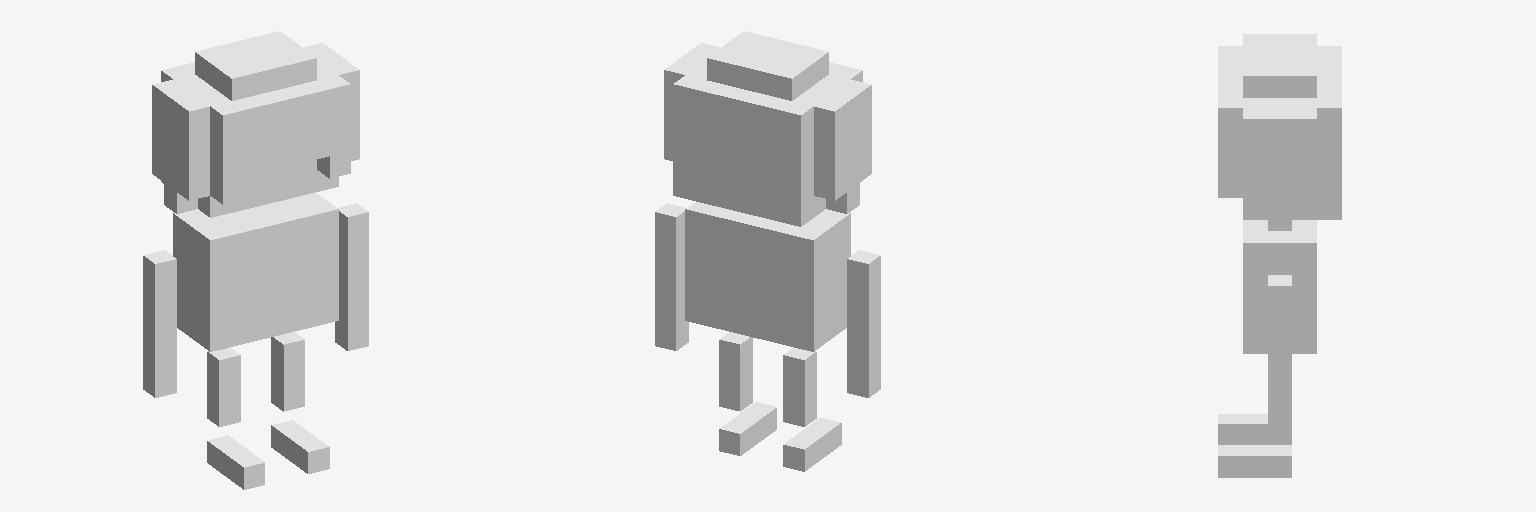
The model's file is assacin.obj.
The picture shows the model from 3 angles: view 1: azimuth 30°, elevation 25°; view 2: azimuth 150°, elevation 25°; view 3: azimuth 270°, elevation 25°; orthographic projection.
Parts seen in each view (by area): view 1: ObjObject; view 2: ObjObject; view 3: ObjObject.
Boxes of the visible parts, <box> form: ObjObject: <box>143,31,368,489</box>; ObjObject: <box>655,31,880,471</box>; ObjObject: <box>1218,34,1341,477</box>.
Size of the model in its own units: 1 by 1.8 by 0.5.